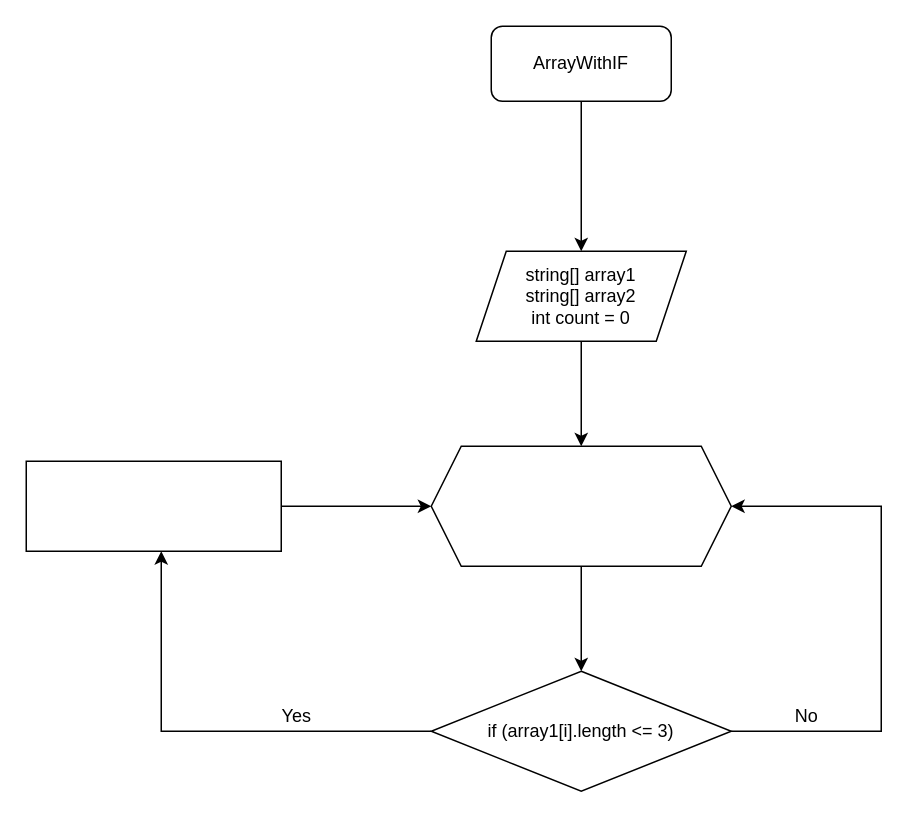
The diagram is 920 pixels wide and 818 high, and some of its shapes have lost their labels. Here are the shapes that lost their labels. From the top down, the box of each, then its label:
(25, 460, 281, 551): array2[count] = array1[i] count++;
(430, 445, 731, 566): for(int i = 0; i < array1.length; i++ )
